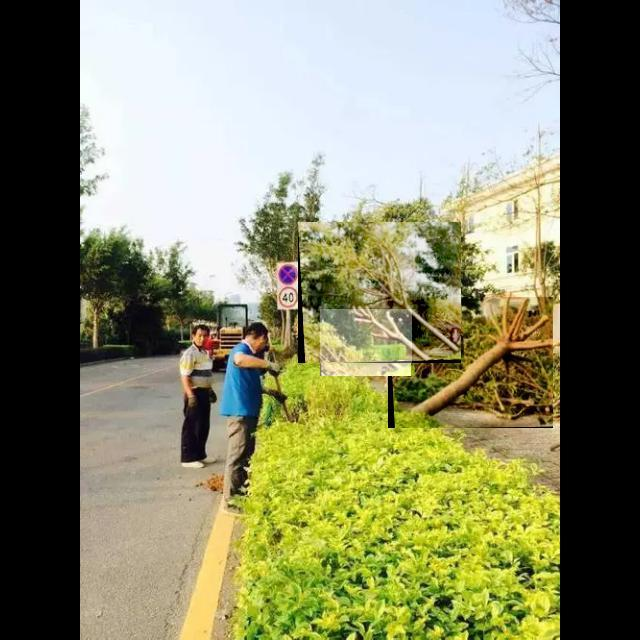fallen_tree: (298, 222, 462, 364), (388, 297, 554, 429), (320, 309, 412, 377)
